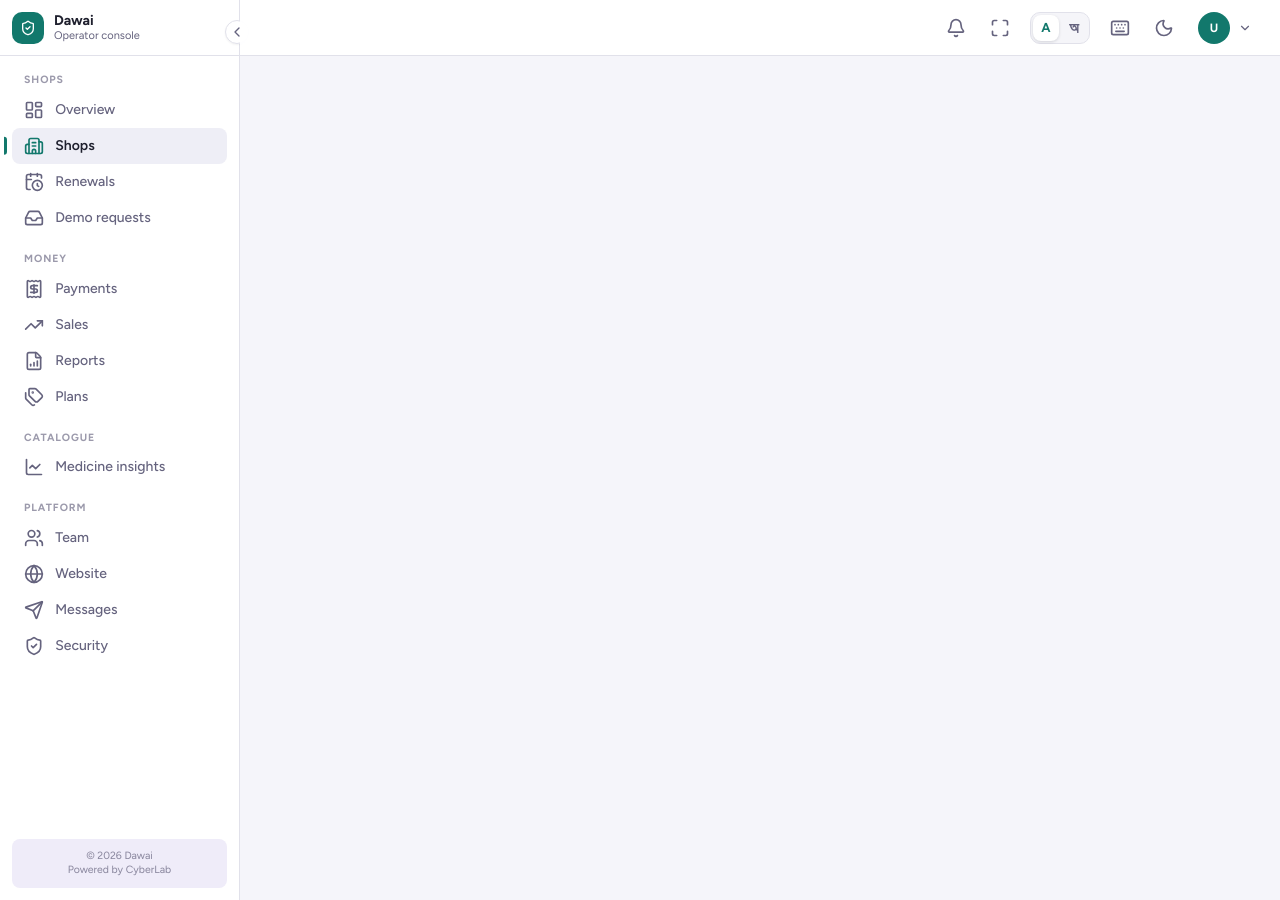
Test case: the operator console’s top bar › says plainly when there is nothing waiting
The image size is (1280, 900).
Click the button named "Notifications" at (956, 28), box top-left (938, 10), bottom-right (974, 46)
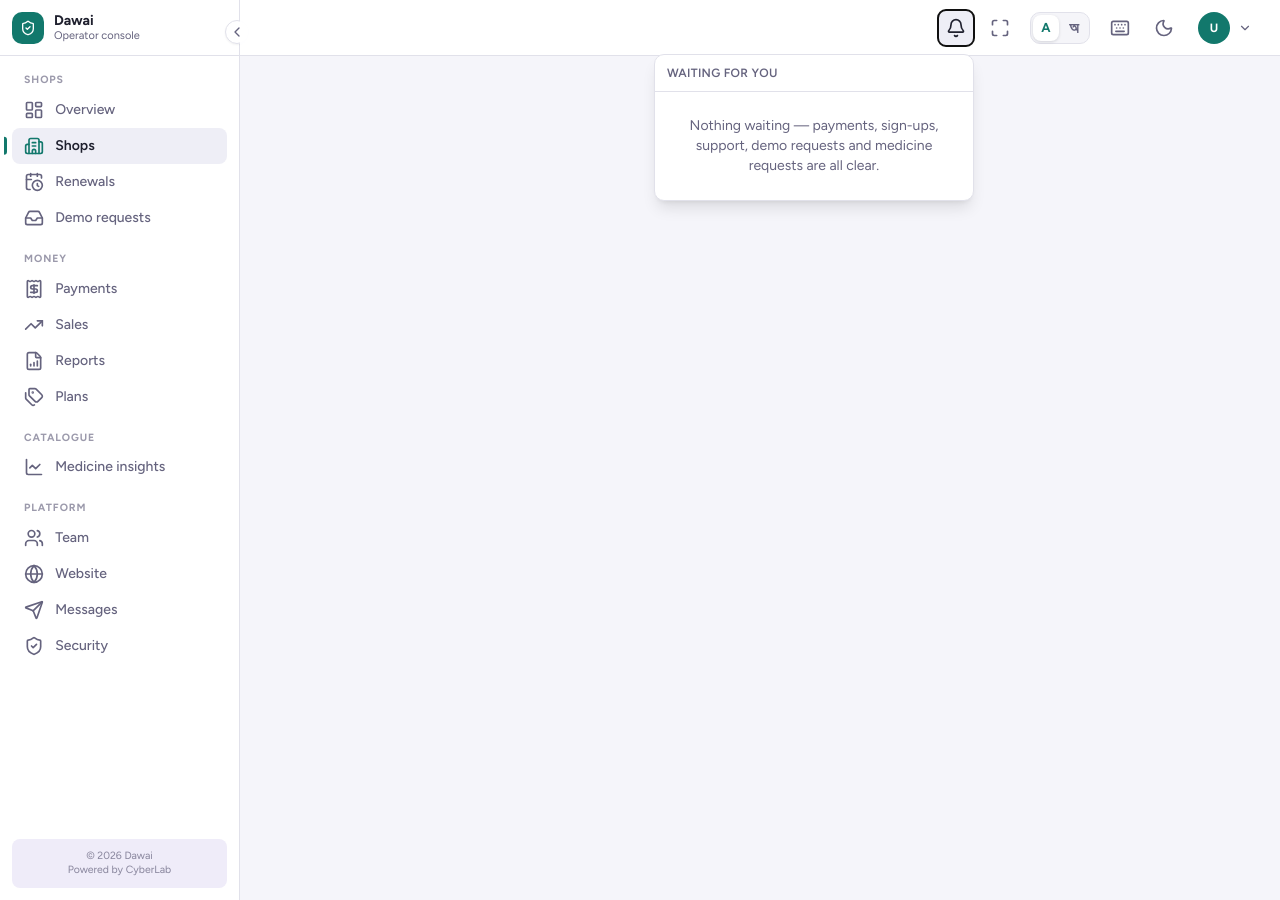
Expected: the text "Nothing waiting" is shown, top-left (690, 116), bottom-right (938, 174)
